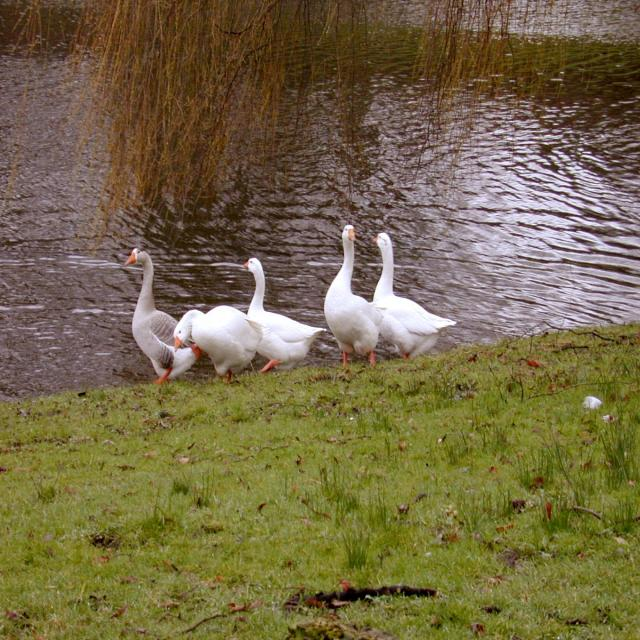bird: (118, 242, 235, 392), (372, 228, 458, 374), (231, 256, 337, 373), (317, 223, 391, 379), (173, 306, 260, 382)
